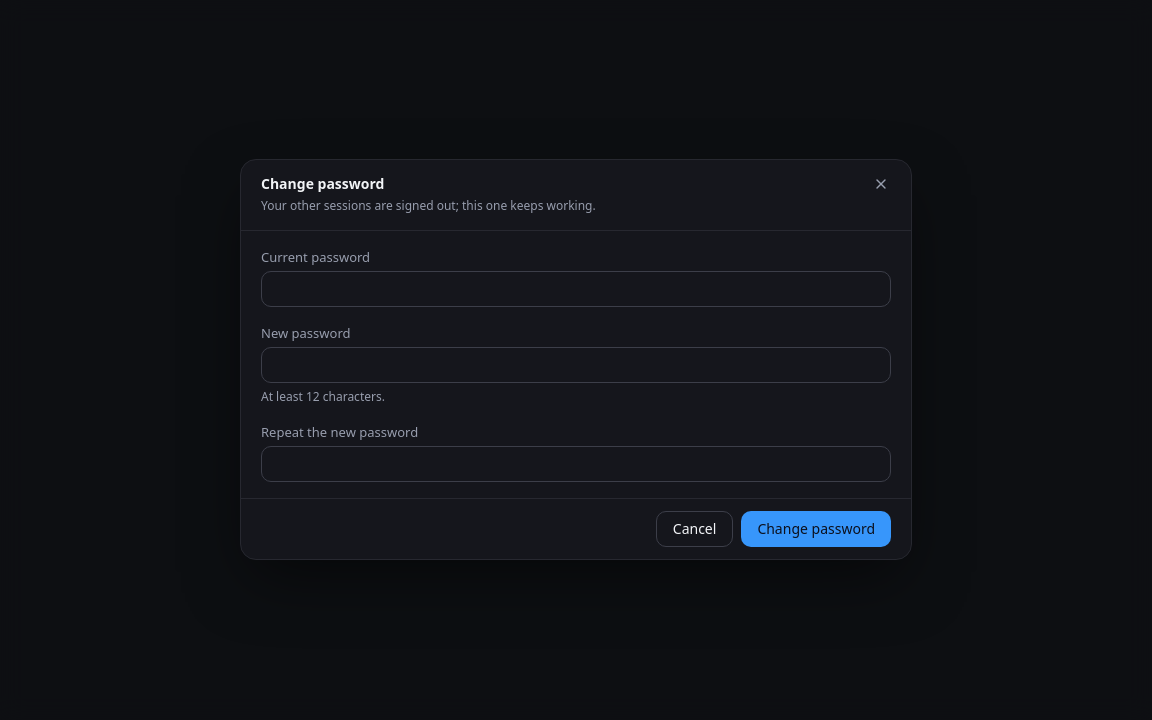
ChangePasswordDialog › passes any other refusal through in the server's words
This screenshot has width=1152, height=720.
Type "old secret here" into the password field labelled "Current password".
click(576, 289); type("old secret here")  # box [261,271,891,307]
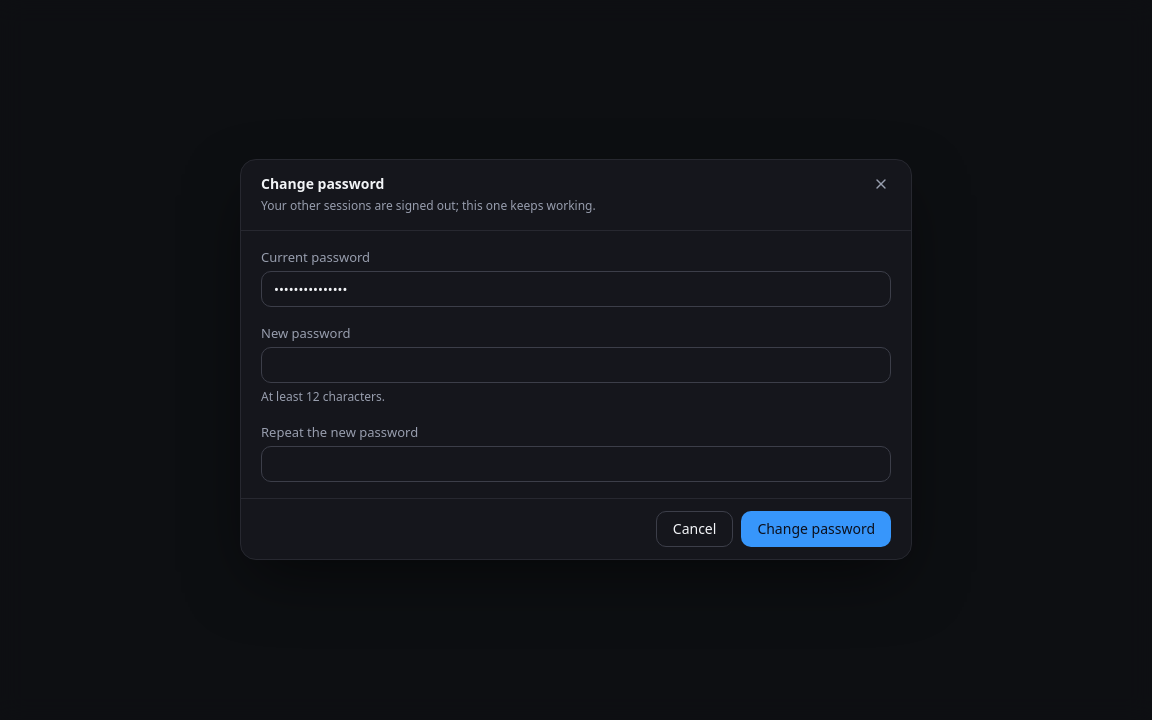
Type "a long enough secret" into the password field labelled "New password".
click(576, 365); type("a long enough secret")  # box [261,347,891,383]
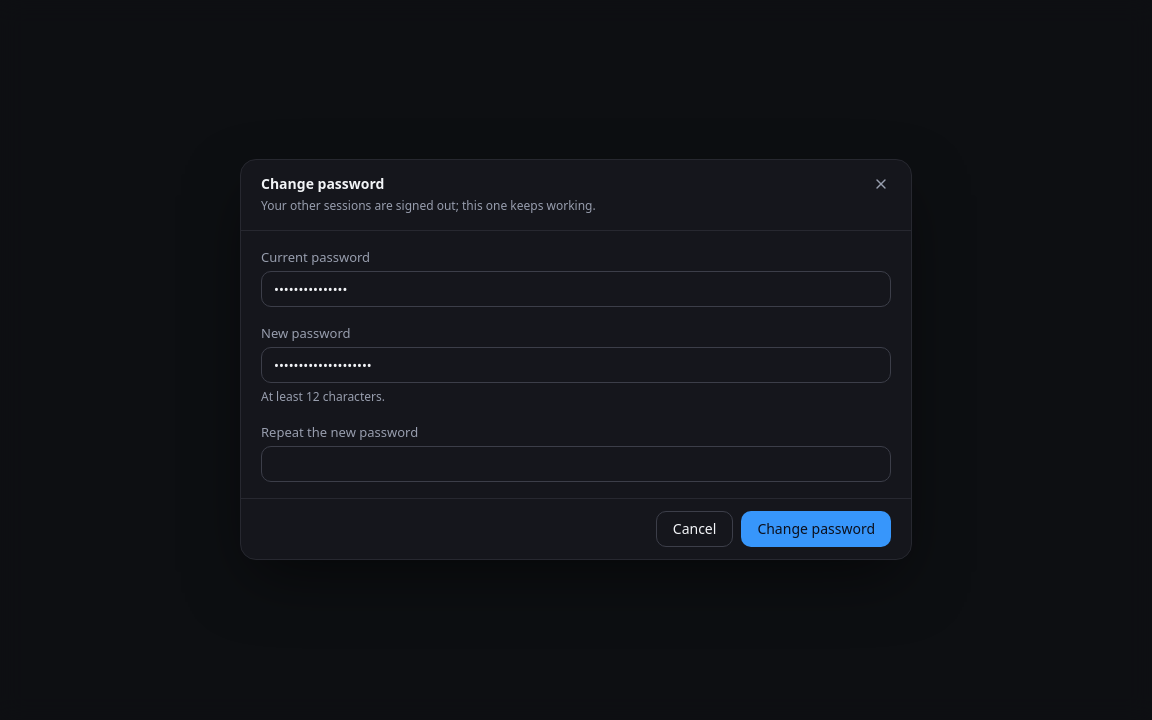
Type "a long enough secret" into the password field labelled "Repeat the new password".
click(576, 465); type("a long enough secret")  # box [261,447,891,483]
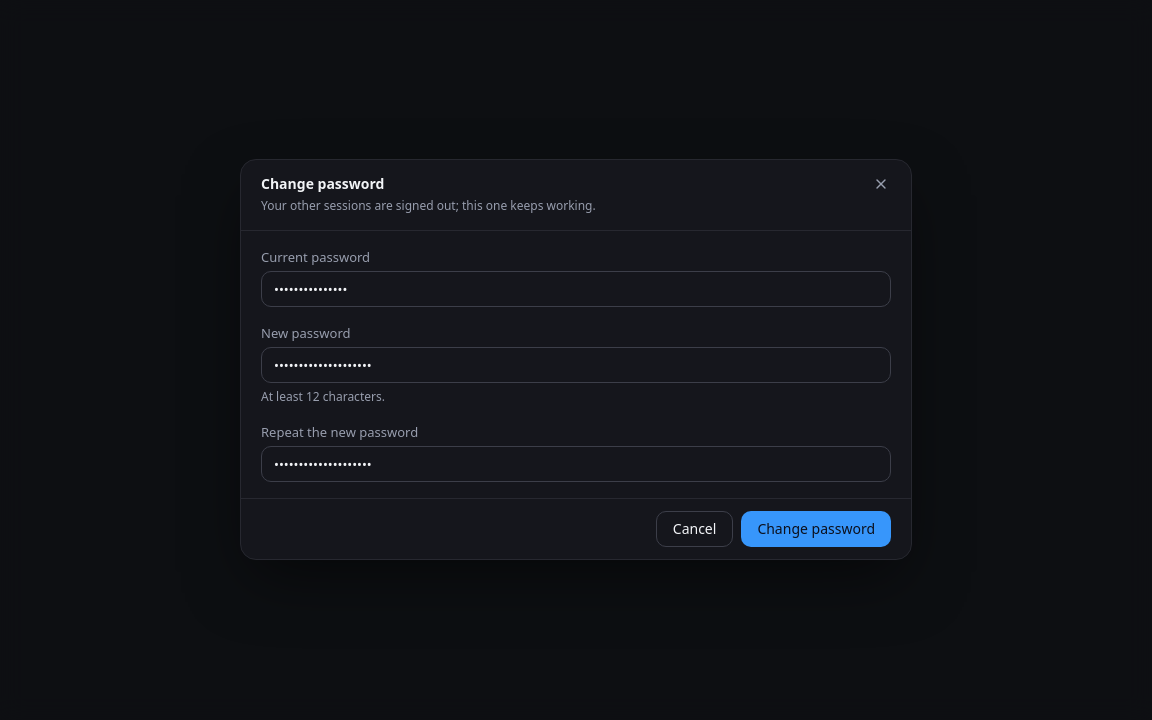
Click the button "Change password".
click(816, 530)  # box [741,512,891,548]
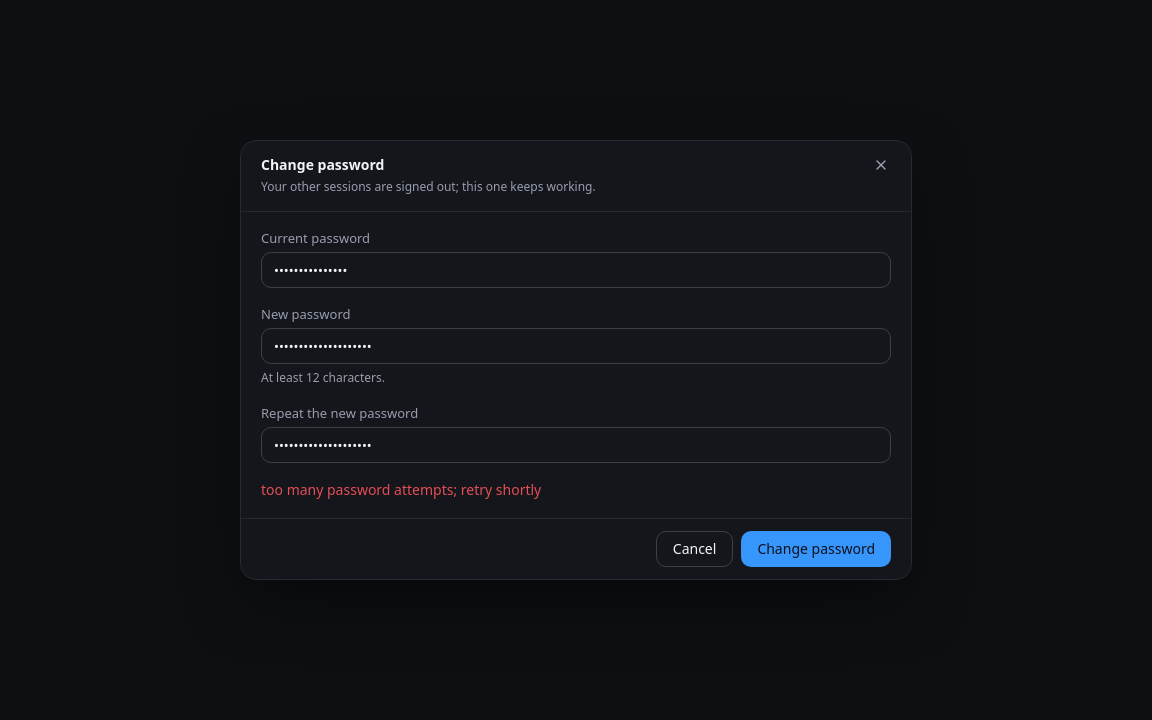
Result: the text "too many password attempts; retry shortly" is shown at [261,480,541,499]
